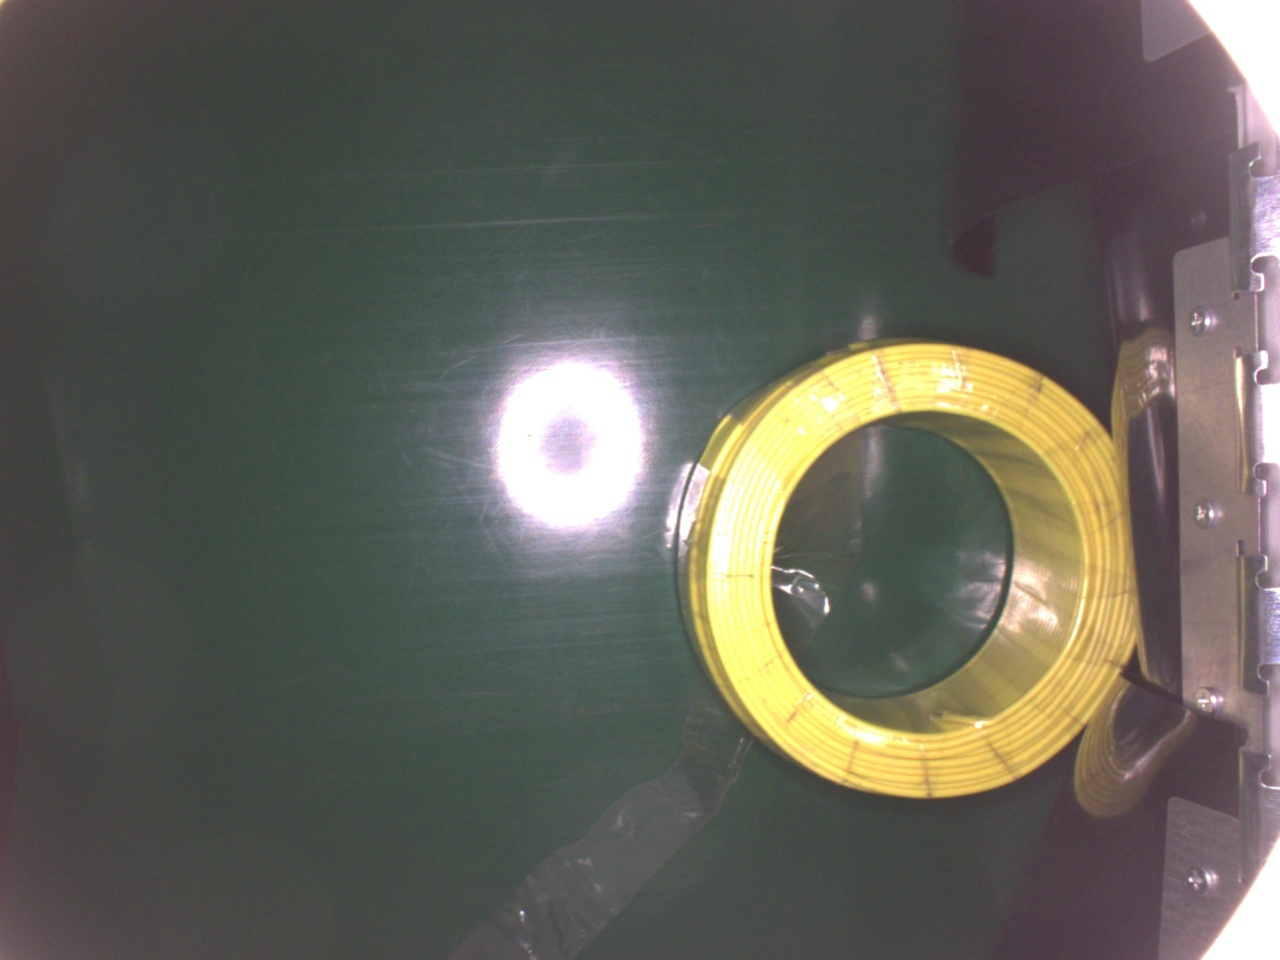yellow: (675, 335, 1136, 798)
